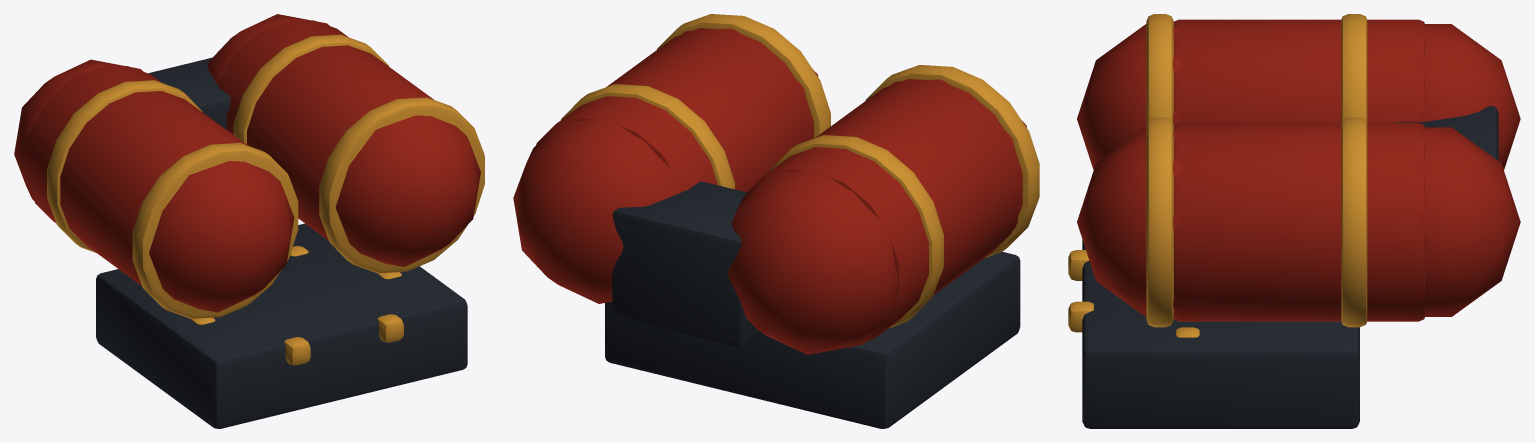
Rendered from FlameBody.obj.
3 views of the same model, side by side, from view 1: azimuth 30°, elevation 25°; view 2: azimuth 150°, elevation 25°; view 3: azimuth 270°, elevation 25° (orthographic). The views are drawn at different scales.
Visible parts, largest first — view 1: FlameBody; view 2: FlameBody; view 3: FlameBody.
Boxes of the visible parts, x1,y1,x2,y2 form: FlameBody: (14,14,484,428); FlameBody: (513,14,1039,428); FlameBody: (1068,14,1520,428).
Size of the model in its own units: 0.8142 by 0.57 by 0.8155.
